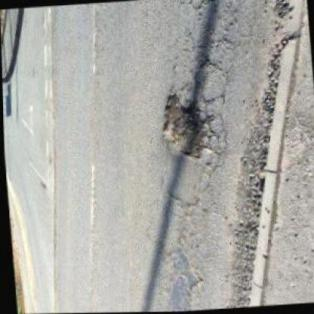Hueco: (154, 87, 214, 163)
